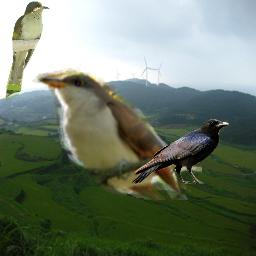Crow: (131, 118, 229, 184)
Cuckoo: (32, 60, 202, 200), (5, 1, 50, 101)
